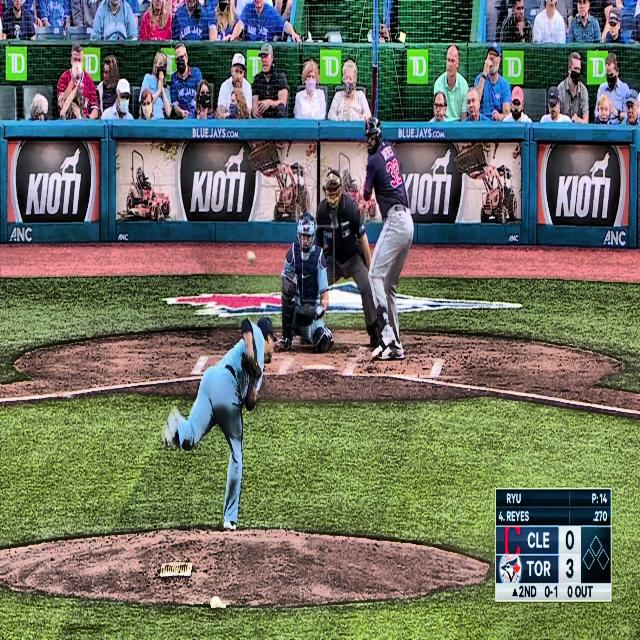baseball: (246, 250, 257, 265)
